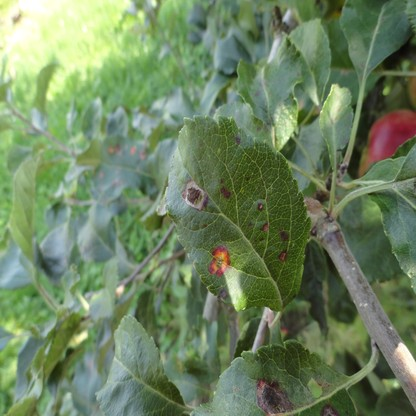frogeye: (184, 182, 206, 209), (322, 406, 333, 416), (259, 203, 263, 211)
rust: (257, 379, 291, 416), (209, 246, 229, 276), (278, 250, 285, 261), (262, 223, 268, 232), (130, 146, 136, 155), (108, 146, 115, 153)
